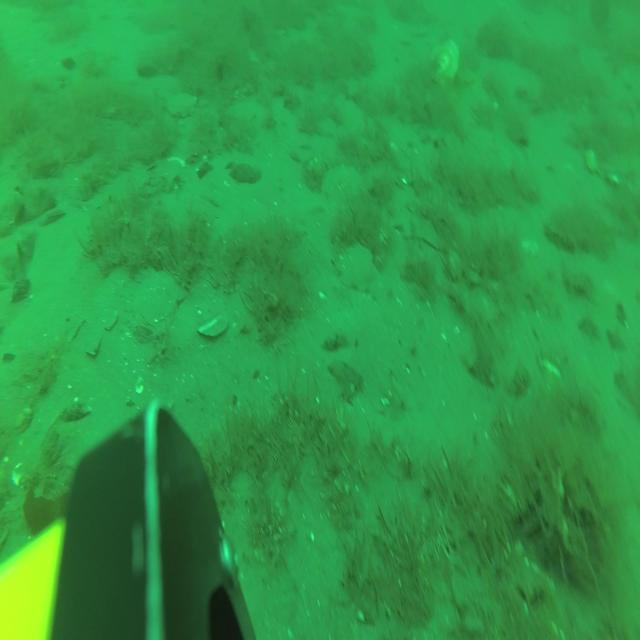scallop: (136, 270, 187, 320), (337, 242, 378, 288), (588, 147, 634, 180), (429, 42, 459, 82), (167, 90, 198, 118)
